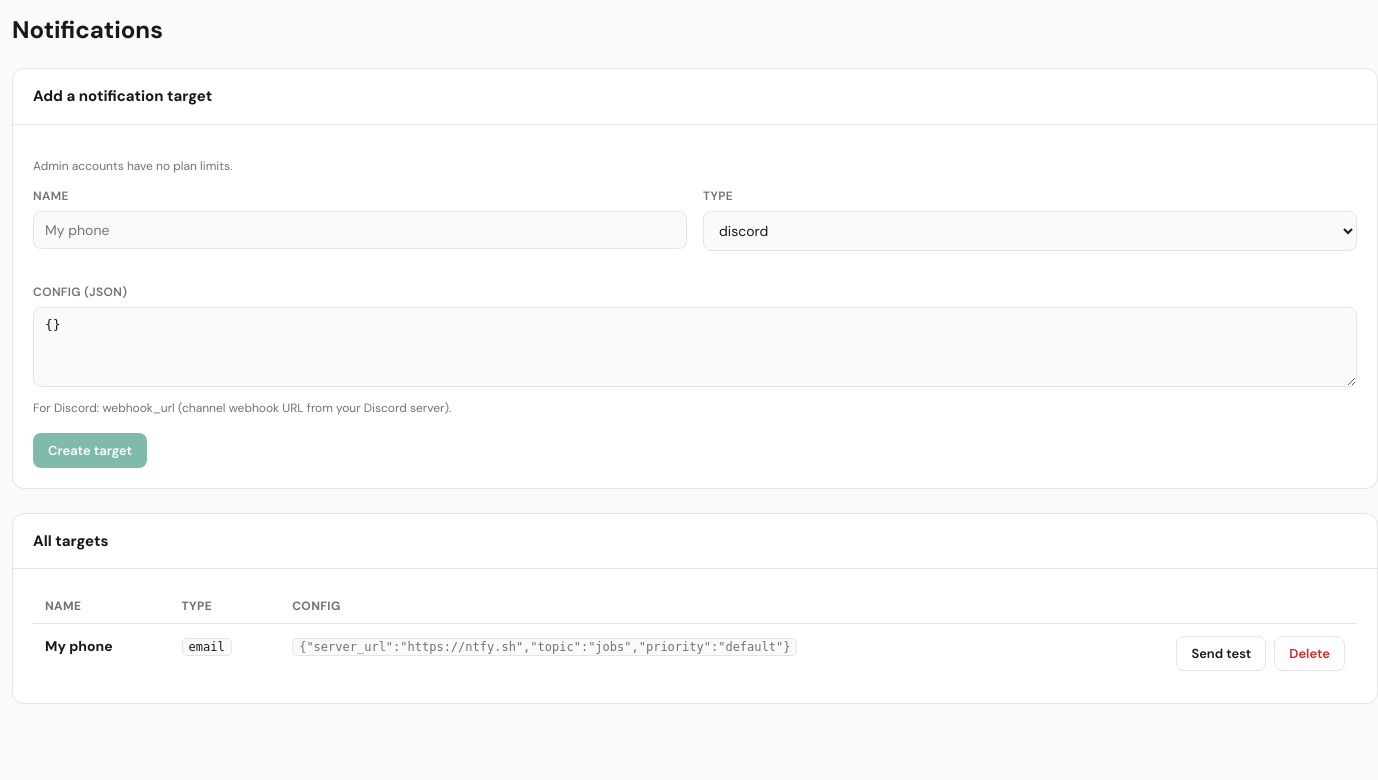
Test case: TargetsPage branch coverage › shows the email-specific success notice on a sent test
This screenshot has width=1378, height=780.
Expected: the text "My phone" is shown, [45,637,113,655]
Click the button "Send test" at (1221, 654), box [1176,636,1266,671]
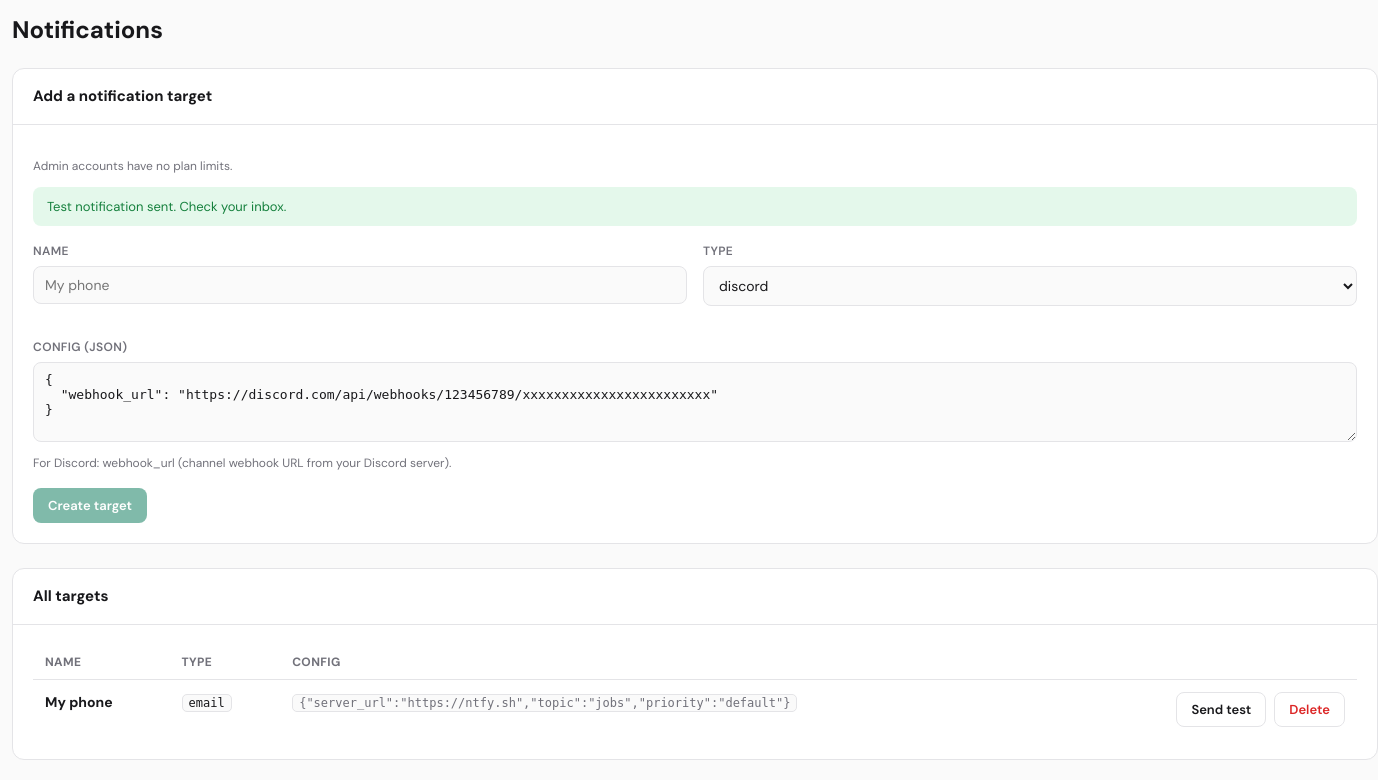
Result: the text "Test notification sent. Check your inbox." is shown at [33,186,1357,226]
